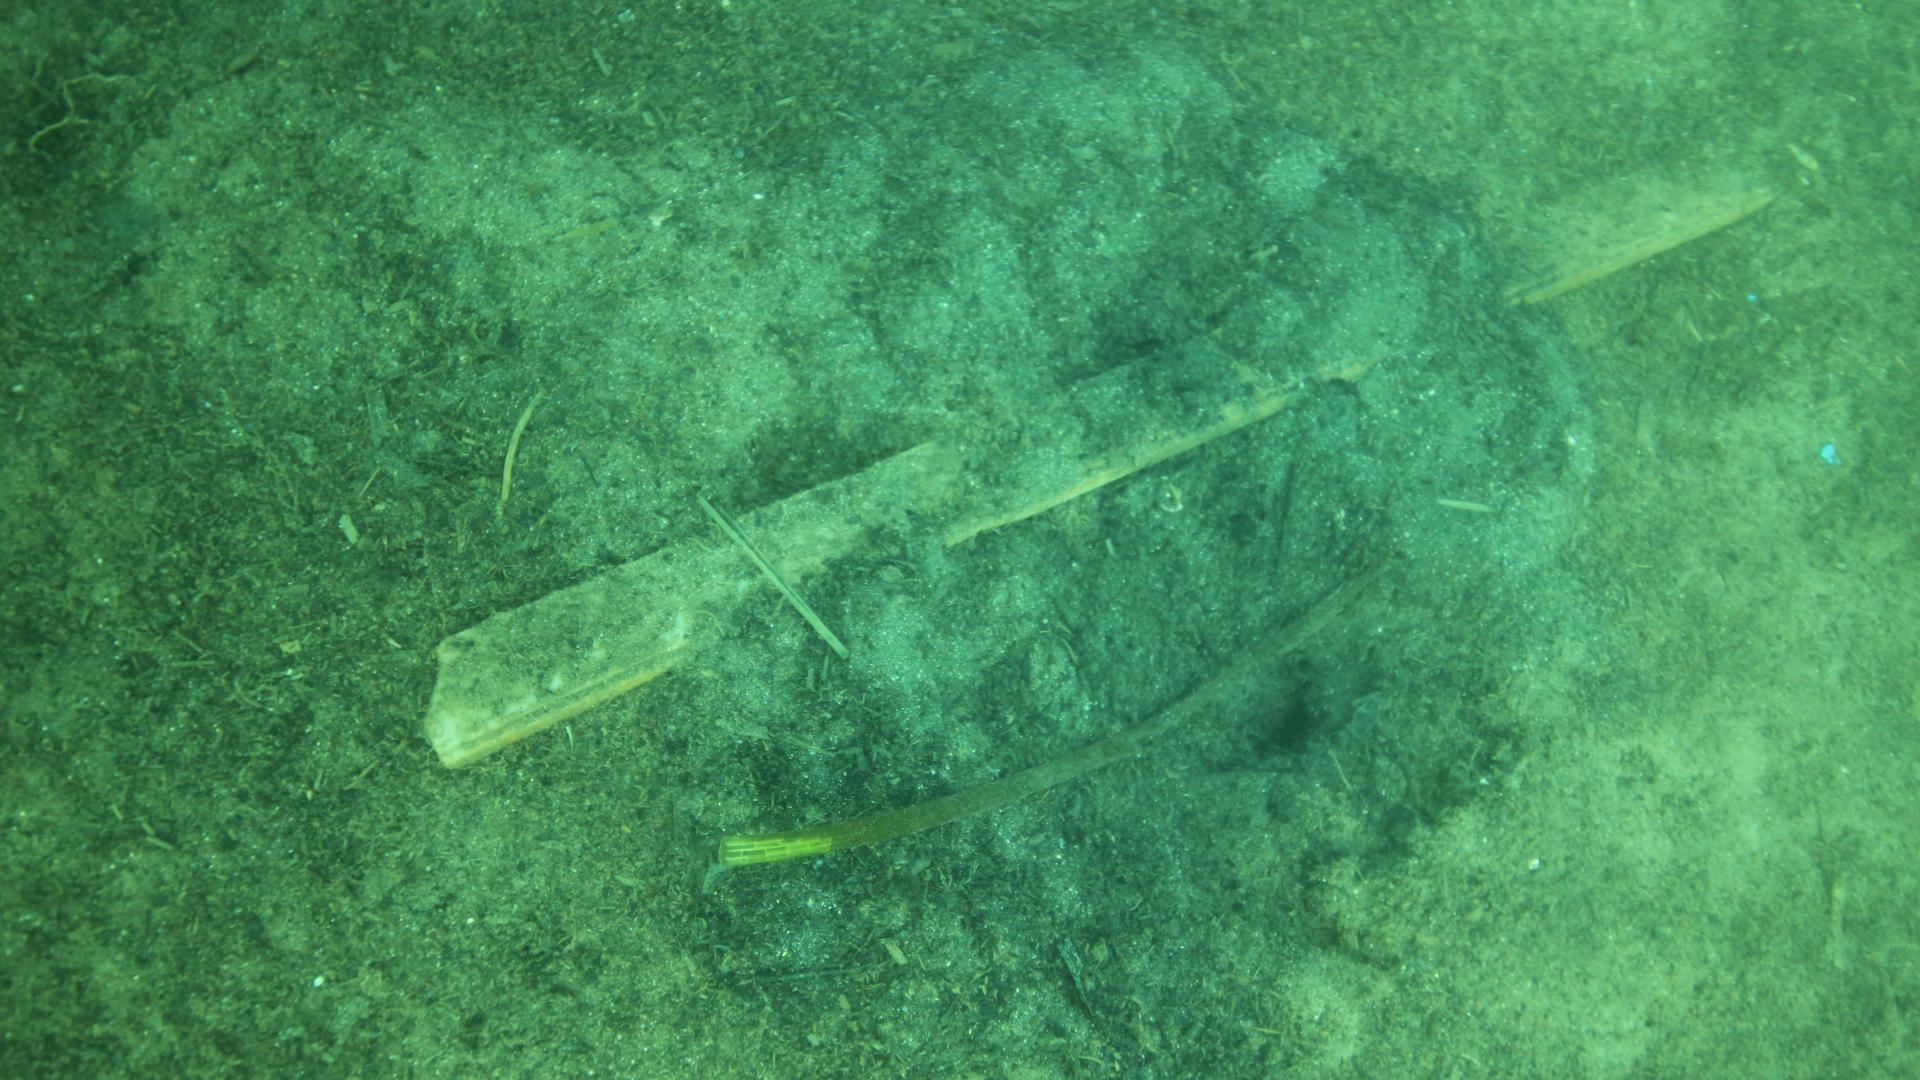wood: (422, 148, 1775, 771)
